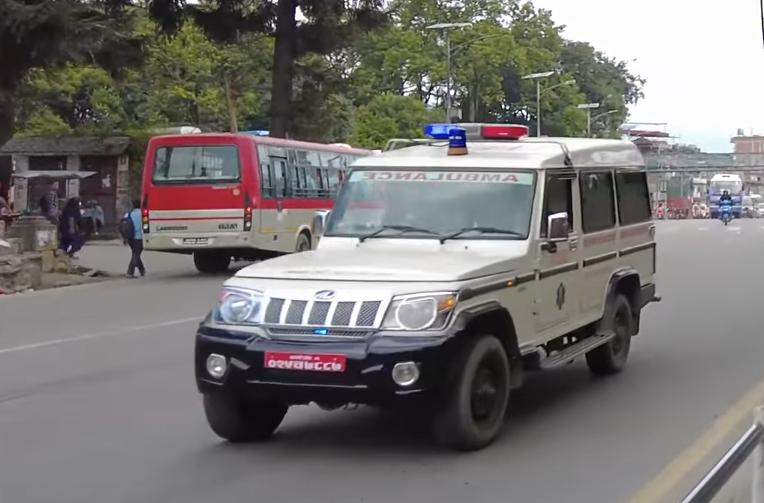ambulance: (178, 116, 674, 452)
bus: (133, 127, 360, 258)
